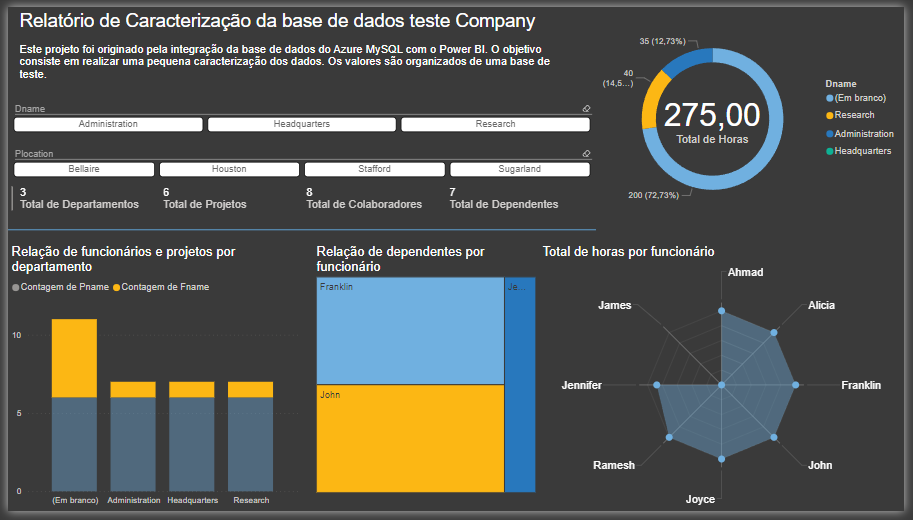

This screenshot's page, from the dashboard's own definition file:
{"tool":"powerbi","page":{"name":"Página 1","canvas":[1280,720],"ordinal":0},"visuals":[{"type":"donutChart","fields":{"Category":["azure_company department.Dname"],"Y":["azure_company works_on.Hours"]},"box":[840,0,440,320],"z":0},{"type":"card","fields":{"Values":["azure_company works_on.Hours"]},"box":[898.3,90,215,138.3],"z":1000},{"type":"treemap","title":"Relação de dependentes por funcionário","fields":{"Group":["azure_company employee.Fname"],"Values":["azure_company dependent.Dependent_name"]},"box":[435,338.3,323.3,360],"z":2000},{"type":"columnChart","title":"Relação de funcionários e projetos por departamento","fields":{"Category":["azure_company department.Dname"],"Y":["azure_company project.Pname","azure_company employee.Fname"]},"box":[0,338.3,420,381.7],"z":3000},{"type":"RadarChart1446119667547","title":"Total de horas por funcionário","fields":{"Category":["azure_company employee.Fname"],"Y":["azure_company works_on.Hours"]},"box":[758.3,338.3,521.7,381.7],"z":4000},{"type":"textbox","box":[11.7,0,771.7,176.7],"z":5000},{"type":"ChicletSlicer1448559807354","fields":{"Category":["azure_company department.Dname"]},"box":[0,132.5,840,63.8],"z":6000},{"type":"ChicletSlicer1448559807354","fields":{"Category":["azure_company project.Plocation"]},"box":[0,197.5,840,67.5],"z":7000},{"type":"multiRowCard","fields":{"Values":["azure_company department.Dname","azure_company project.Pname","azure_company employee.Fname","azure_company dependent.Dependent_name"]},"box":[0,251.2,840,67.5],"z":8000},{"type":"shape","box":[0,300,840,36.2],"z":9000}]}

Visuals, with their boxes in screenshot pixels (x1, y1, x2, y2), scaled from the page's 1280x720 canvas onto the 913x520 screenshot:
donutChart - azure_company department.Dname x azure_company works_on.Hours: 599, 0, 912, 231
card - azure_company works_on.Hours: 641, 65, 794, 165
"Relação de dependentes por funcionário" treemap: 310, 244, 541, 504
"Relação de funcionários e projetos por departamento" columnChart: 0, 244, 300, 519
"Total de horas por funcionário" RadarChart1446119667547: 541, 244, 912, 519
textbox: 8, 0, 559, 128
ChicletSlicer1448559807354 - azure_company department.Dname: 0, 96, 599, 142
ChicletSlicer1448559807354 - azure_company project.Plocation: 0, 143, 599, 191
multiRowCard - azure_company department.Dname x azure_company project.Pname: 0, 181, 599, 230
shape: 0, 217, 599, 243
